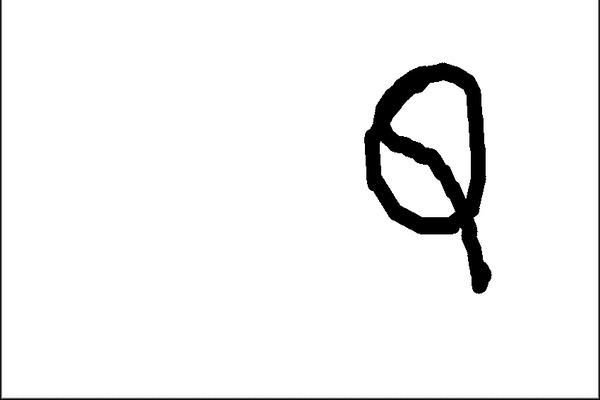Q: (349, 55, 501, 295)
